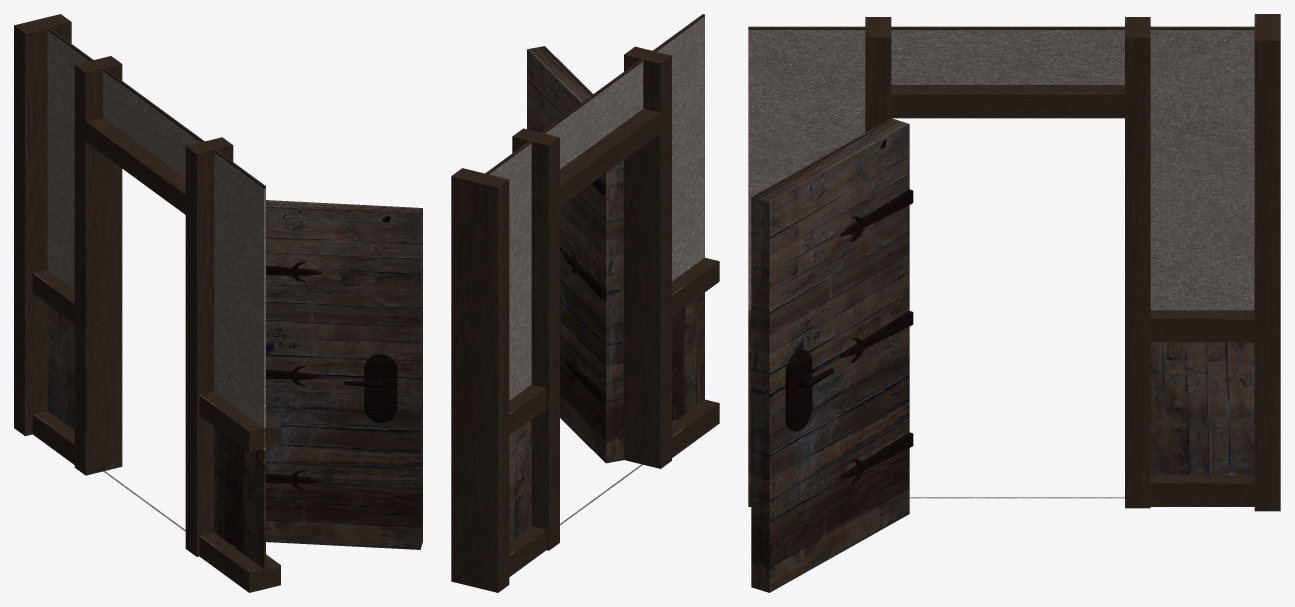
File: OutdoorArchitecture_BasicWall02_Door01_OpenDoor_RightEdge_BShortt.fbx
3 renders of one model, left to right at view 1: azimuth 30°, elevation 25°; view 2: azimuth 150°, elevation 25°; view 3: azimuth 270°, elevation 25°, orthographic. The views are drawn at different scales.
Parts seen in each view (by area): view 1: OutdoorArchitecture_BasicWall02_Door01_OpenDoor_RightEdge_BS; view 2: OutdoorArchitecture_BasicWall02_Door01_OpenDoor_RightEdge_BS; view 3: OutdoorArchitecture_BasicWall02_Door01_OpenDoor_RightEdge_BS.
Part boxes in pixels (box(x1,y1,x2,y2)): OutdoorArchitecture_BasicWall02_Door01_OpenDoor_RightEdge_BS: box(14, 14, 422, 592); OutdoorArchitecture_BasicWall02_Door01_OpenDoor_RightEdge_BS: box(451, 14, 719, 592); OutdoorArchitecture_BasicWall02_Door01_OpenDoor_RightEdge_BS: box(748, 14, 1280, 592).
Bounding box in the file's own units: 148 × 300 × 308.
